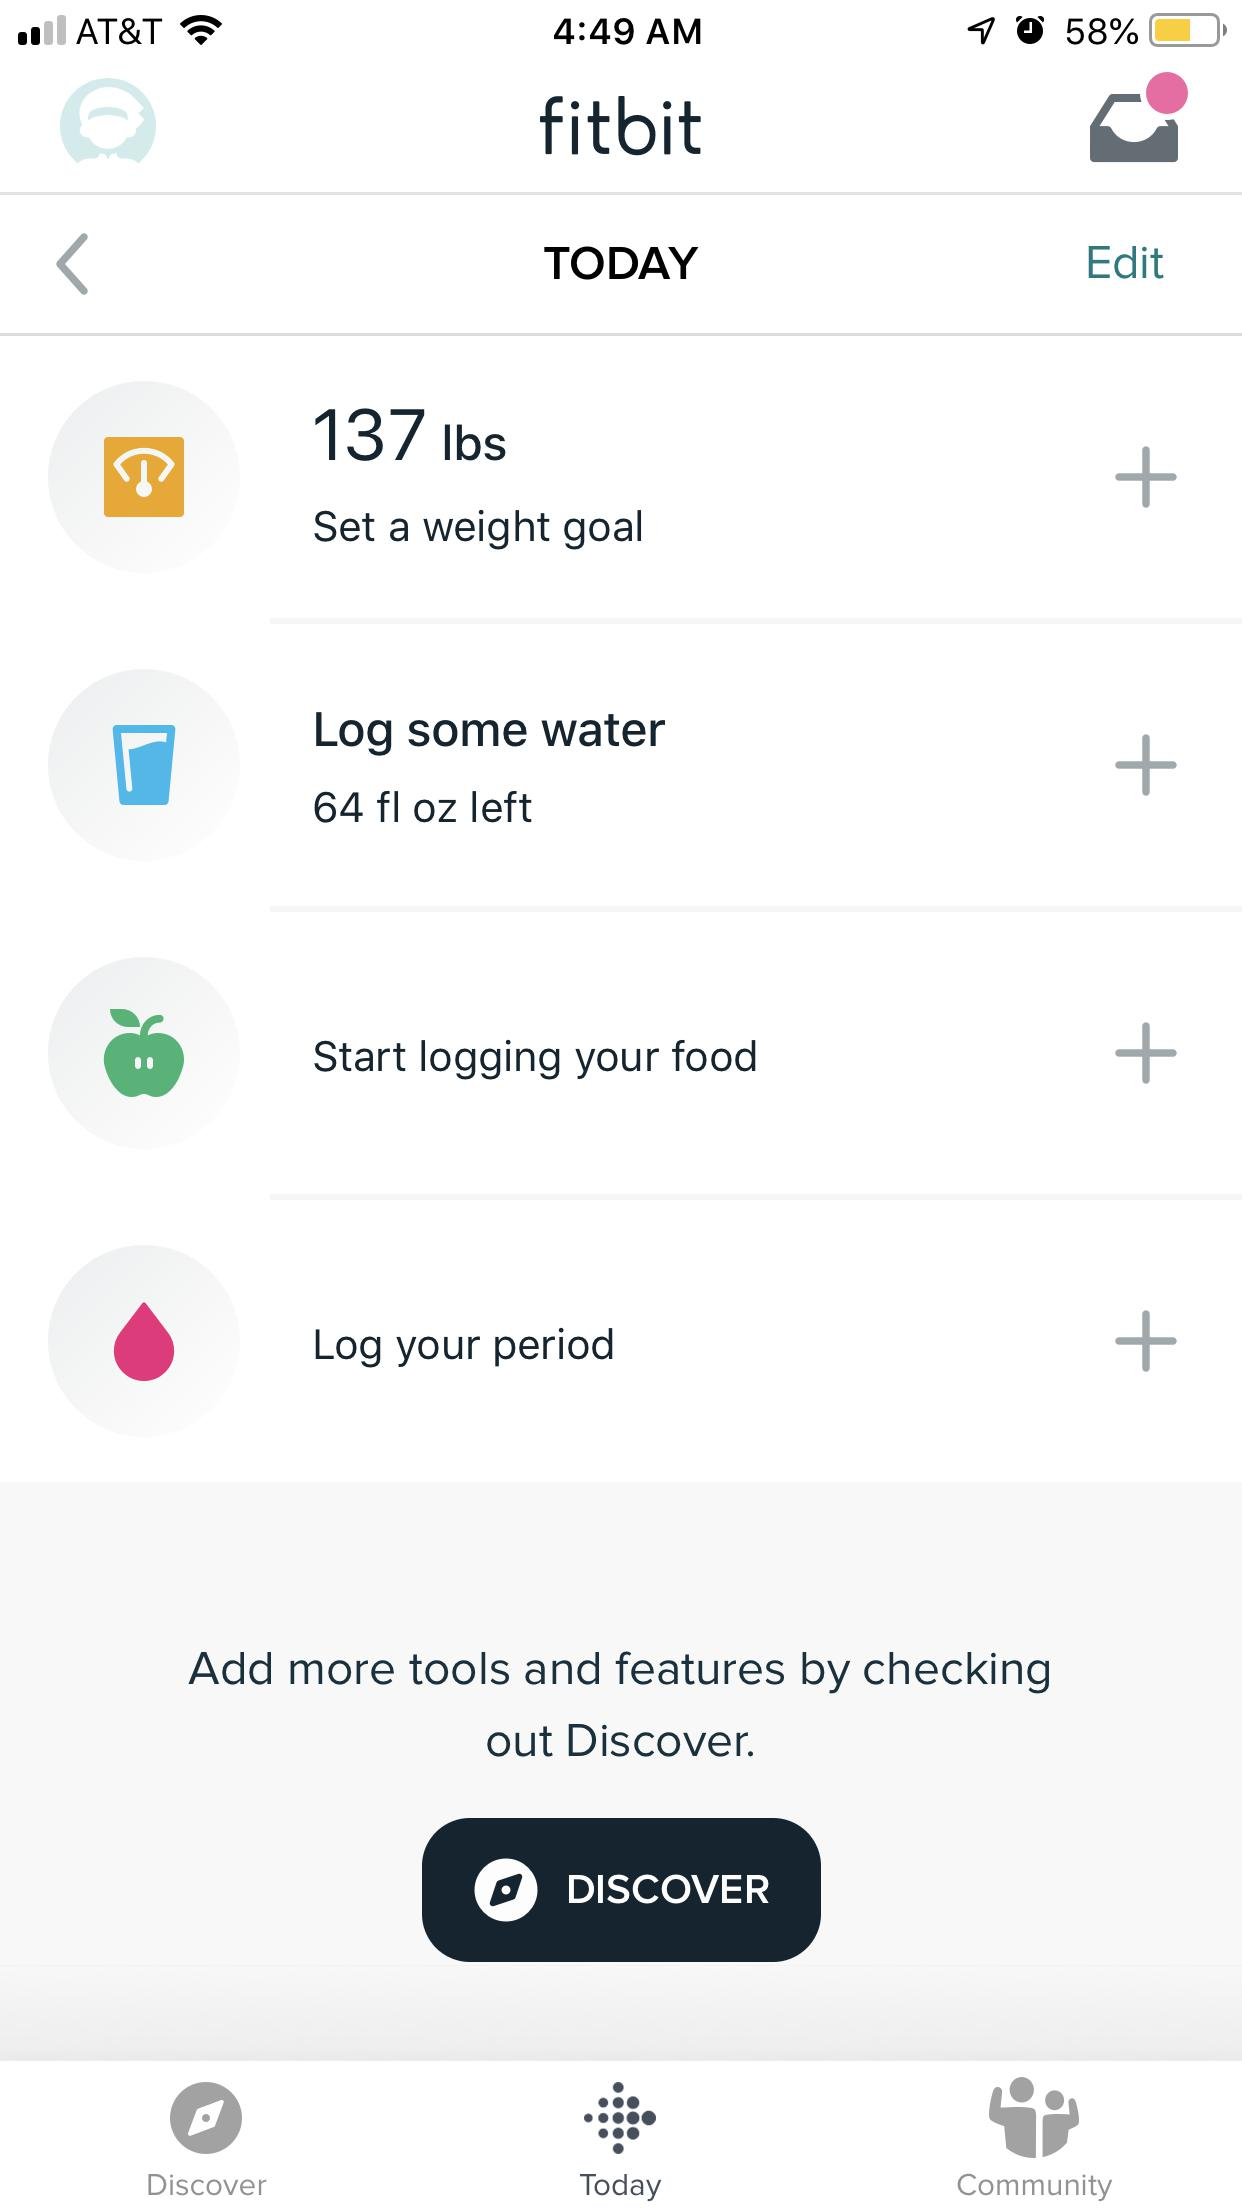Icon: (170, 2081, 244, 2155), (1115, 446, 1178, 510), (1115, 734, 1178, 798), (1115, 1022, 1178, 1086), (1115, 1309, 1178, 1372), (56, 231, 93, 300)
Image: (47, 667, 244, 864), (47, 955, 243, 1153), (47, 381, 243, 576), (47, 1245, 243, 1439), (1086, 73, 1190, 164), (61, 77, 155, 170), (987, 2076, 1081, 2158), (582, 2081, 657, 2156)
Text: (188, 1651, 1049, 1759), (314, 1039, 757, 1081), (315, 711, 667, 757), (314, 510, 643, 550), (315, 1328, 614, 1369), (314, 406, 507, 463), (538, 96, 702, 158), (314, 790, 532, 823), (544, 246, 701, 281), (955, 2173, 1113, 2202), (147, 2173, 268, 2197), (1087, 246, 1165, 281), (579, 2173, 663, 2202)
TextButton: (422, 1817, 822, 1962)
UpperTaskBar: (2, 2, 1242, 49)
